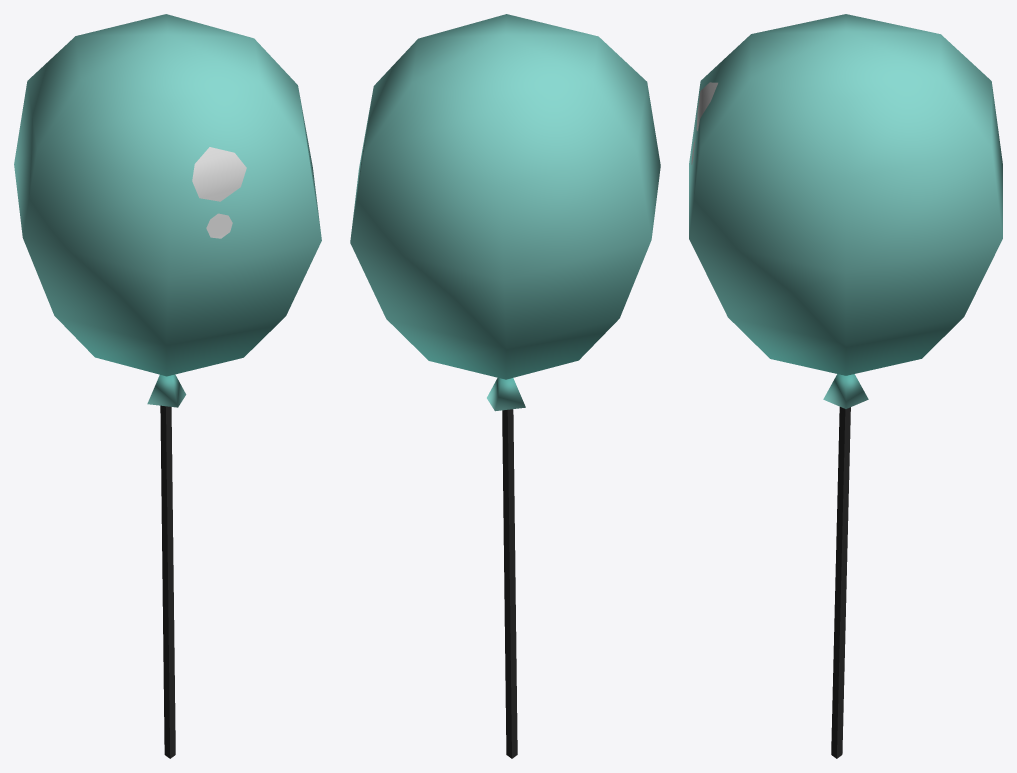
File: cyanBaloon.glb
The picture shows the model from 3 angles, left to right: view 1: azimuth 30°, elevation 25°; view 2: azimuth 150°, elevation 25°; view 3: azimuth 270°, elevation 25°; orthographic projection.
Visible parts, largest first — view 1: cyanBaloon; view 2: cyanBaloon; view 3: cyanBaloon.
Boxes of the visible parts, left/top/right/bottom form: cyanBaloon: left=14, top=14, right=321, bottom=758; cyanBaloon: left=350, top=14, right=660, bottom=758; cyanBaloon: left=689, top=14, right=1002, bottom=758.
Bounding box in the file's own units: 0.5473 × 1.29 × 0.5071.
